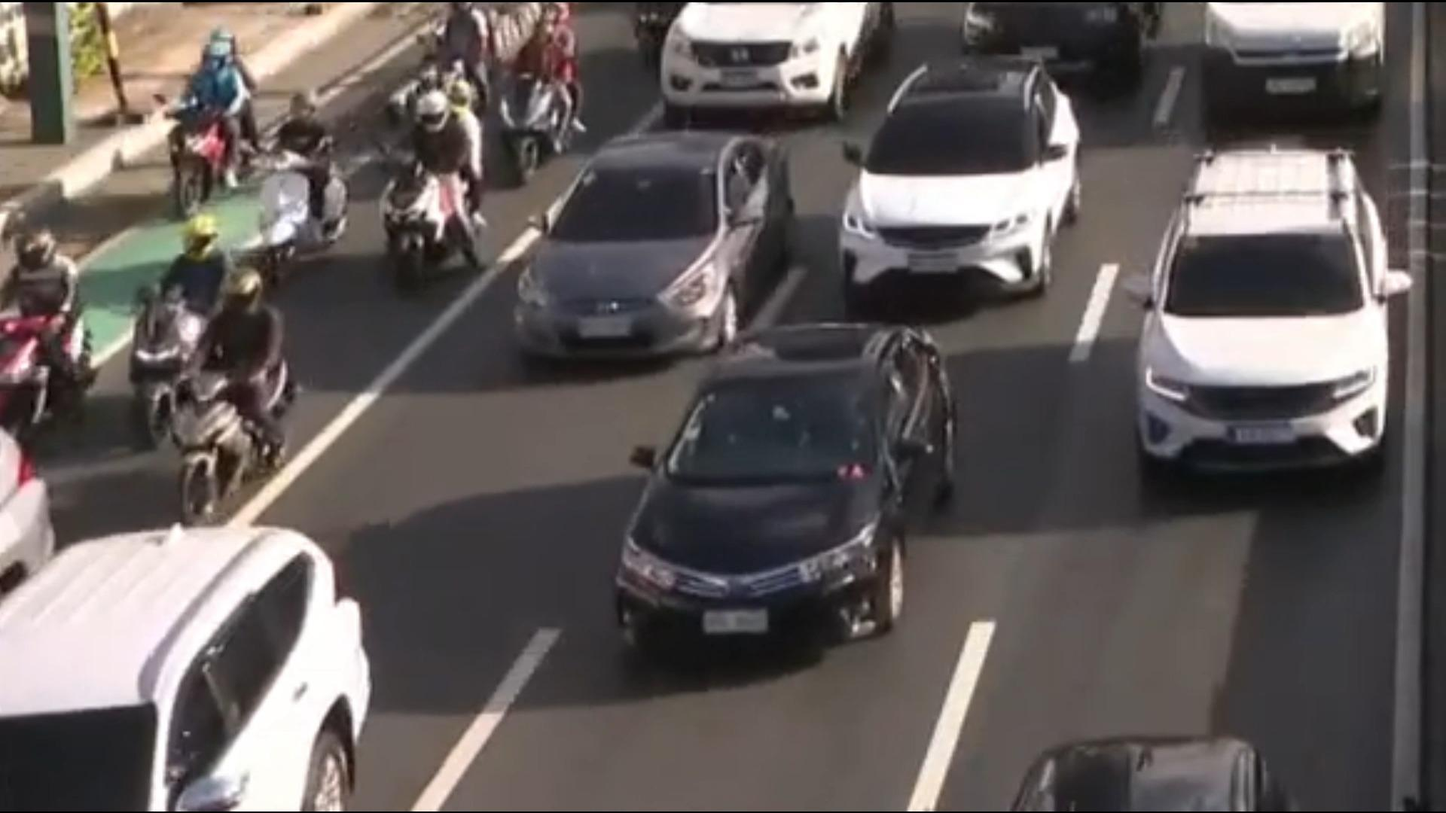Motorcycle: (145, 261, 325, 536), (108, 199, 244, 417), (361, 69, 482, 298), (0, 227, 102, 449), (146, 27, 266, 209), (498, 0, 605, 201), (261, 85, 344, 275)
SUV: (1105, 131, 1436, 487), (0, 506, 380, 813), (834, 48, 1126, 331)
Sedan: (593, 308, 981, 700), (472, 121, 813, 389)
